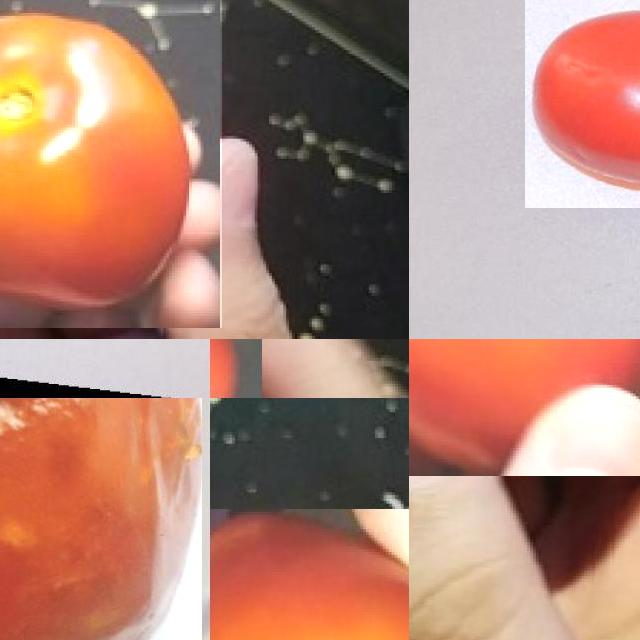0: (0, 0, 222, 328), (409, 339, 640, 476)
Fresh Tomato: (210, 509, 409, 640), (524, 0, 640, 208)
Rotten Tomato: (0, 398, 201, 640)
